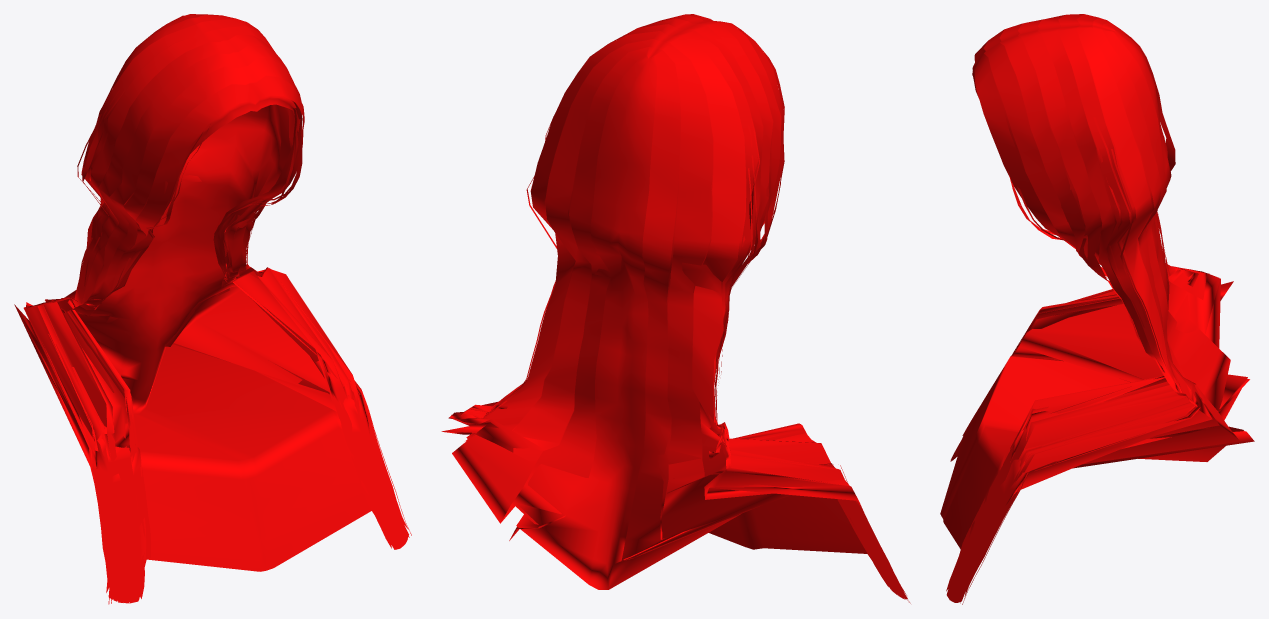
Rendered from long01_F.glb.
3 renders of one model, left to right at view 1: azimuth 30°, elevation 25°; view 2: azimuth 150°, elevation 25°; view 3: azimuth 270°, elevation 25°, orthographic. The views are drawn at different scales.
Size of the model in its own units: 0.3729 by 0.6019 by 0.3353.
Materials: 1 (1 with a texture image).
